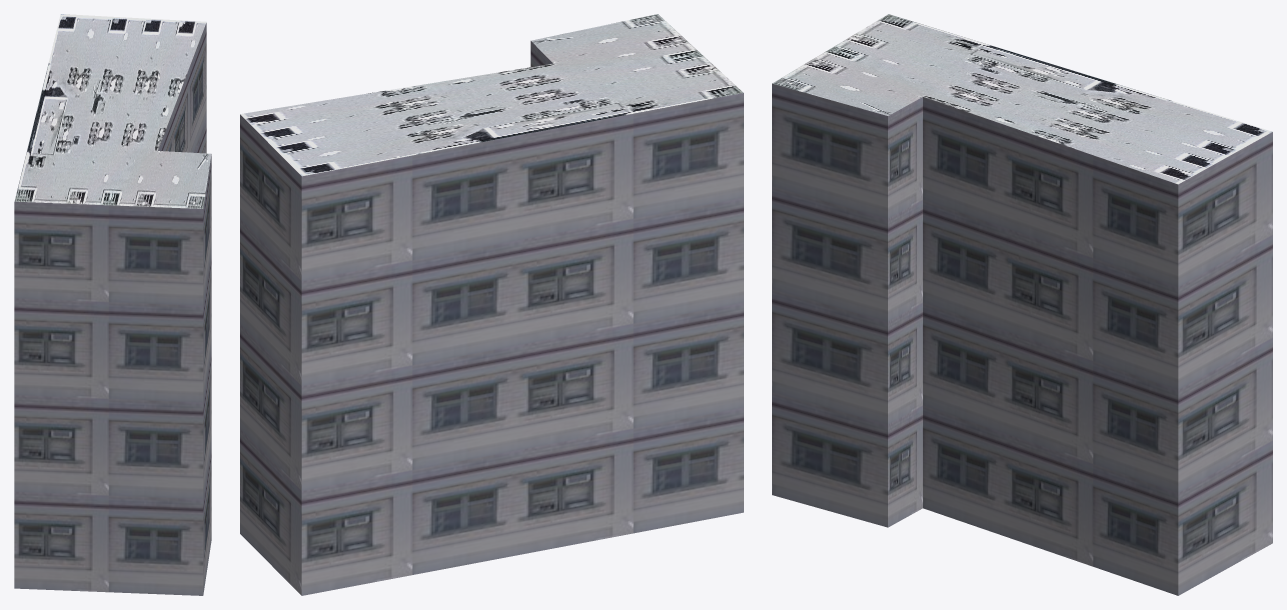
File: ResTex__899.fbx
3 views of the same model, side by side, from view 1: azimuth 30°, elevation 25°; view 2: azimuth 150°, elevation 25°; view 3: azimuth 270°, elevation 25° (orthographic). The views are drawn at different scales.
Visible parts, largest first — view 1: CityEngineMaterial_1_m, CityEngineMaterial_8_m; view 2: CityEngineMaterial_1_m, CityEngineMaterial_8_m; view 3: CityEngineMaterial_1_m, CityEngineMaterial_8_m.
Part boxes in pixels (x1,y1,x2,y2): CityEngineMaterial_1_m: [14, 23, 211, 595]; CityEngineMaterial_8_m: [14, 14, 211, 208]; CityEngineMaterial_1_m: [240, 41, 743, 595]; CityEngineMaterial_8_m: [240, 14, 743, 176]; CityEngineMaterial_1_m: [772, 83, 1272, 595]; CityEngineMaterial_8_m: [772, 14, 1272, 184].
Bounding box in the file's own units: 10.66 × 12 × 13.24.
2 materials, 2 textured.
